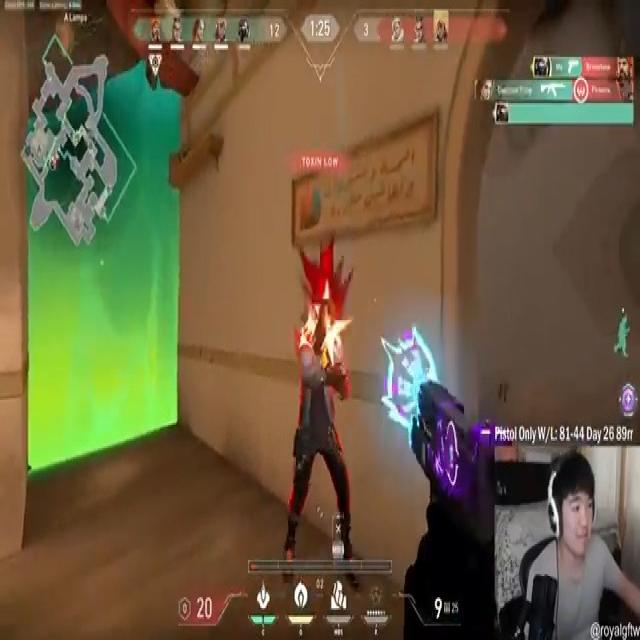enemy: (282, 288, 352, 592)
